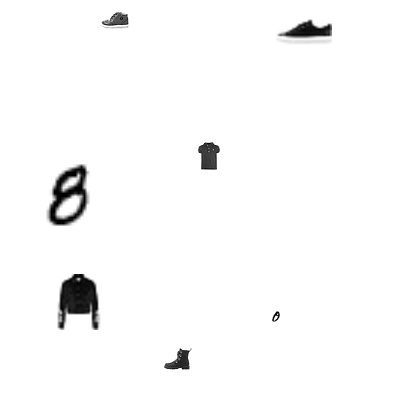0: (269, 309, 283, 323)
8: (26, 153, 110, 237)
Ankle_boot: (164, 345, 192, 373)
Coat: (50, 274, 106, 330)
Sneaker: (276, 4, 332, 60), (101, 6, 129, 34)
T-shirt/top: (195, 142, 223, 170)
